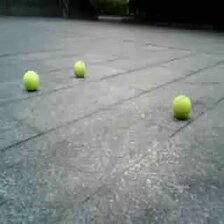tennis: (173, 96, 192, 119), (23, 70, 40, 89), (73, 61, 86, 77)
